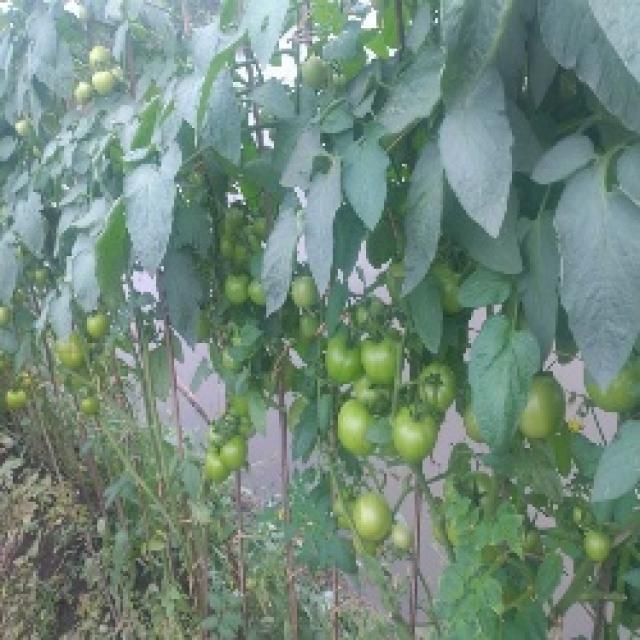tomato: (513, 376, 565, 449), (416, 359, 464, 417), (576, 369, 640, 411), (353, 490, 398, 548), (394, 408, 439, 463), (363, 328, 407, 383), (324, 331, 365, 386), (341, 396, 376, 460), (86, 306, 124, 345), (223, 227, 253, 269), (356, 376, 385, 414), (293, 273, 318, 313), (583, 531, 614, 563), (300, 58, 330, 90), (223, 444, 250, 472), (88, 48, 113, 78), (228, 273, 249, 305), (92, 73, 116, 101), (3, 386, 32, 409), (249, 280, 273, 306), (208, 459, 229, 482), (83, 399, 107, 418), (74, 80, 89, 96)
